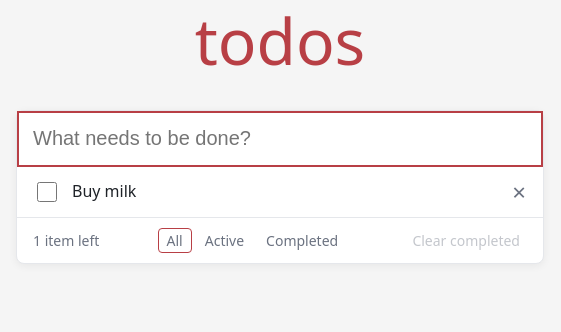
App › shows todos from the API and adds a new one
Expected: the text "Buy milk" is shown, x1=72 y1=180 x2=136 y2=203
Step 1. Type "Walk the dog" into the field named "New todo" → (280, 139), box x1=17 y1=111 x2=543 y2=167
Then press Enter
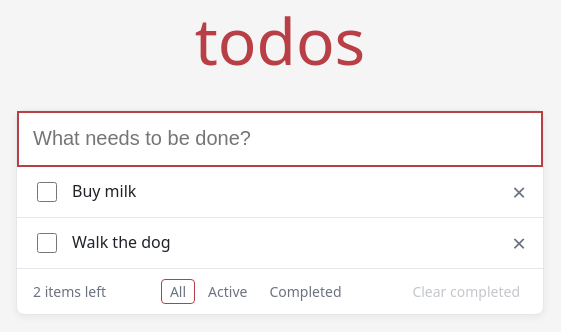
Expected: the text "Walk the dog" is shown, x1=72 y1=231 x2=171 y2=254
Expected: the text "2 items left" is shown, x1=33 y1=282 x2=106 y2=301
